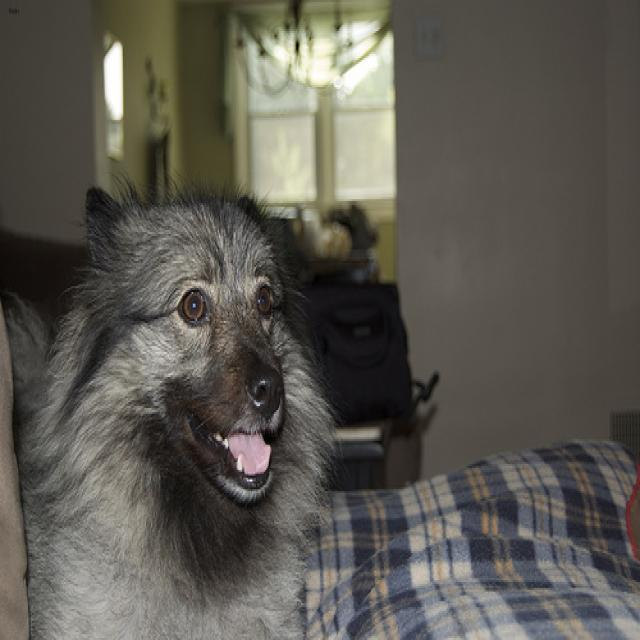dog-keeshond: (12, 159, 342, 636)
